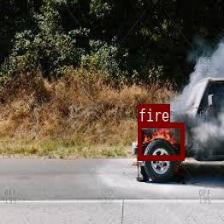fire: (137, 122, 184, 159)
